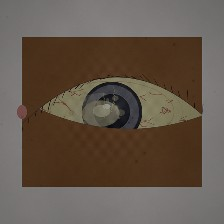corneal_ulcer: (70, 89, 131, 138)
